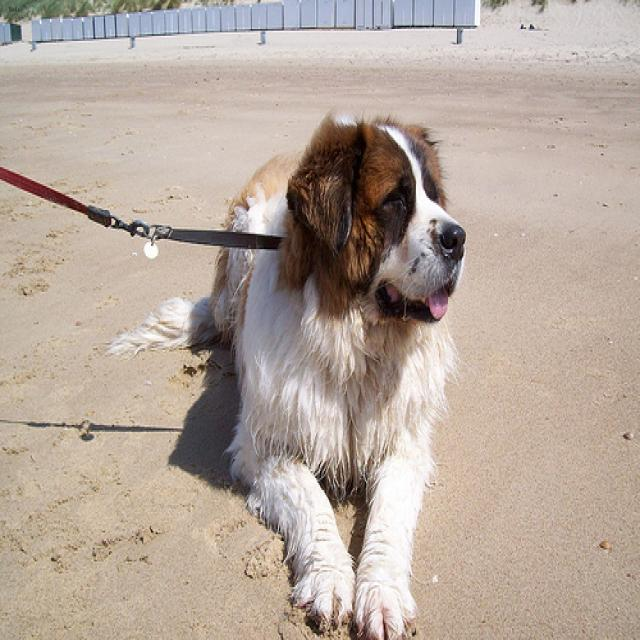dog-saint_bernard: (99, 104, 475, 637)
